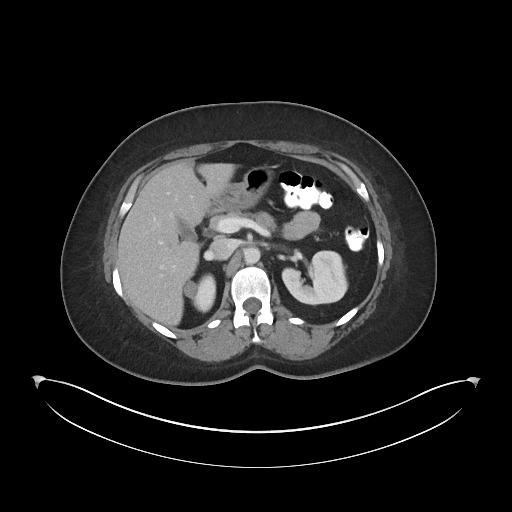Lesion: (184, 279, 201, 299)
